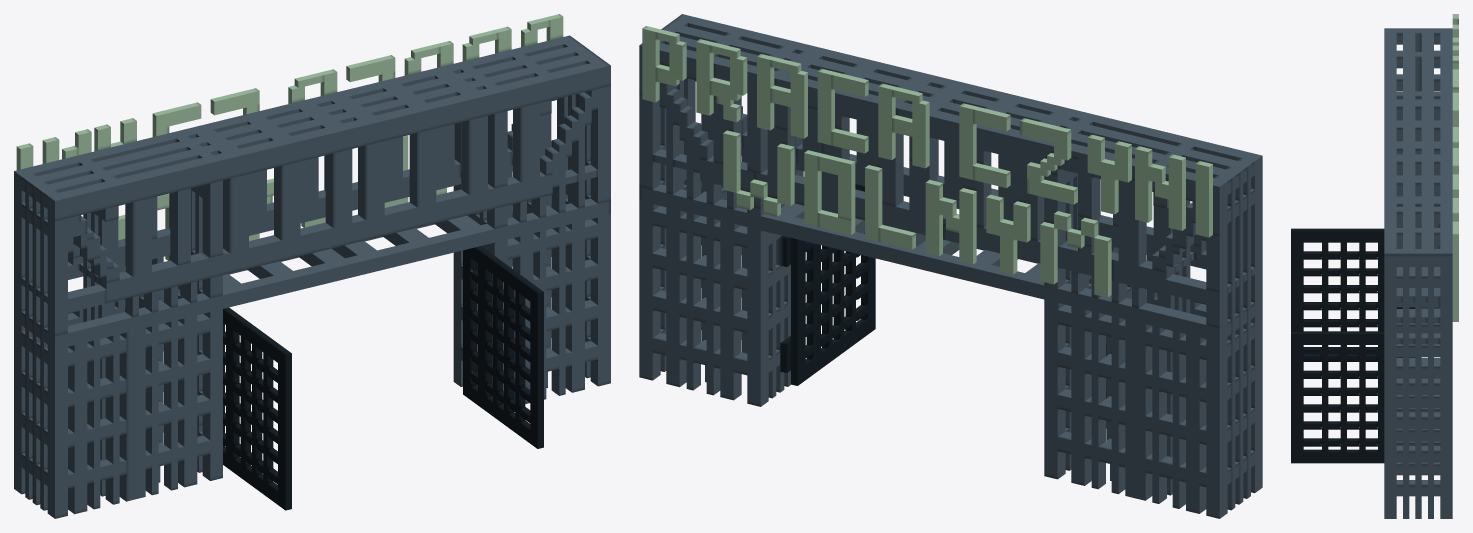
Rendered from brama getto.dae.
3 renders of one model, left to right at view 1: azimuth 30°, elevation 25°; view 2: azimuth 150°, elevation 25°; view 3: azimuth 270°, elevation 25°, orthographic. The views are drawn at different scales.
Parts seen in each view (by area): view 1: Content; view 2: Content; view 3: Content.
Part boxes in pixels (<box>): Content: <box>14,14,610,518</box>; Content: <box>639,14,1262,518</box>; Content: <box>1291,14,1458,518</box>.
Size of the model in its own units: 86 by 50 by 27.
Materials: 1 (1 with a texture image).
